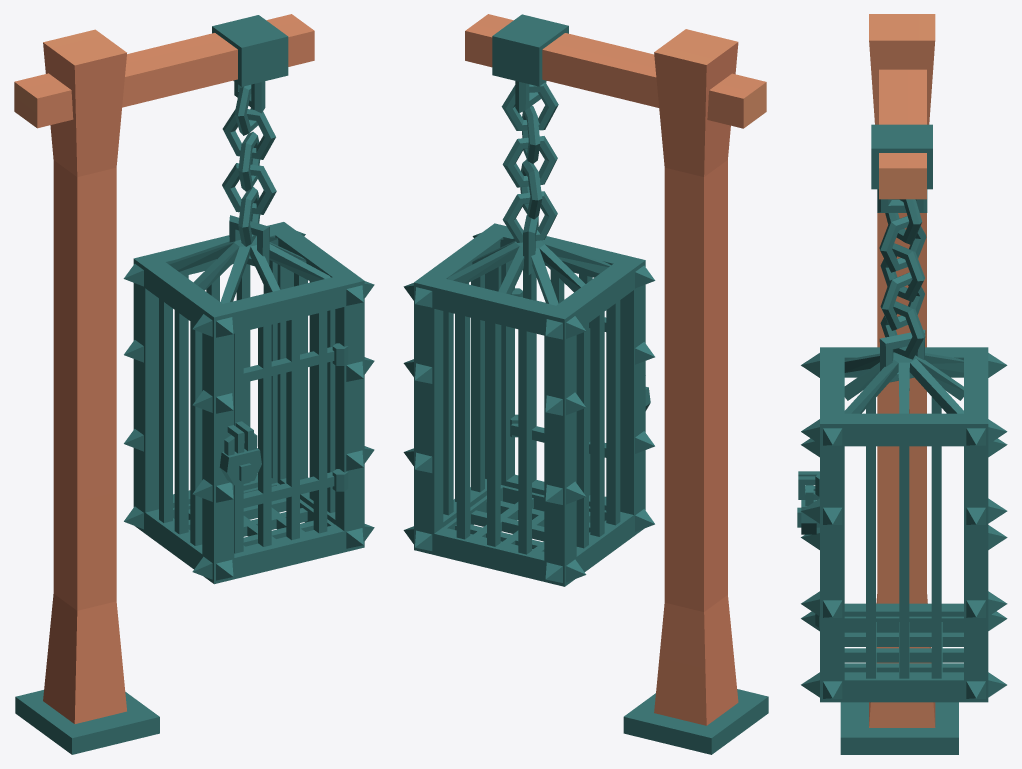
The model's file is torture9.fbx.
3 renders of one model, left to right at view 1: azimuth 30°, elevation 25°; view 2: azimuth 150°, elevation 25°; view 3: azimuth 270°, elevation 25°, orthographic. The views are drawn at different scales.
Parts seen in each view (by area): view 1: torture9, doo3; view 2: torture9, doo3; view 3: torture9, doo3.
Part boxes in pixels (x1=…): torture9: x1=14, y1=14, x2=374, y2=754; doo3: x1=234, y1=311, x2=348, y2=553; torture9: x1=403, y1=14, x2=768, y2=754; doo3: x1=510, y1=270, x2=606, y2=495; torture9: x1=797, y1=14, x2=1007, y2=754; doo3: x1=798, y1=473, x2=819, y2=628.
Size of the model in its own units: 203 by 416 by 112.
